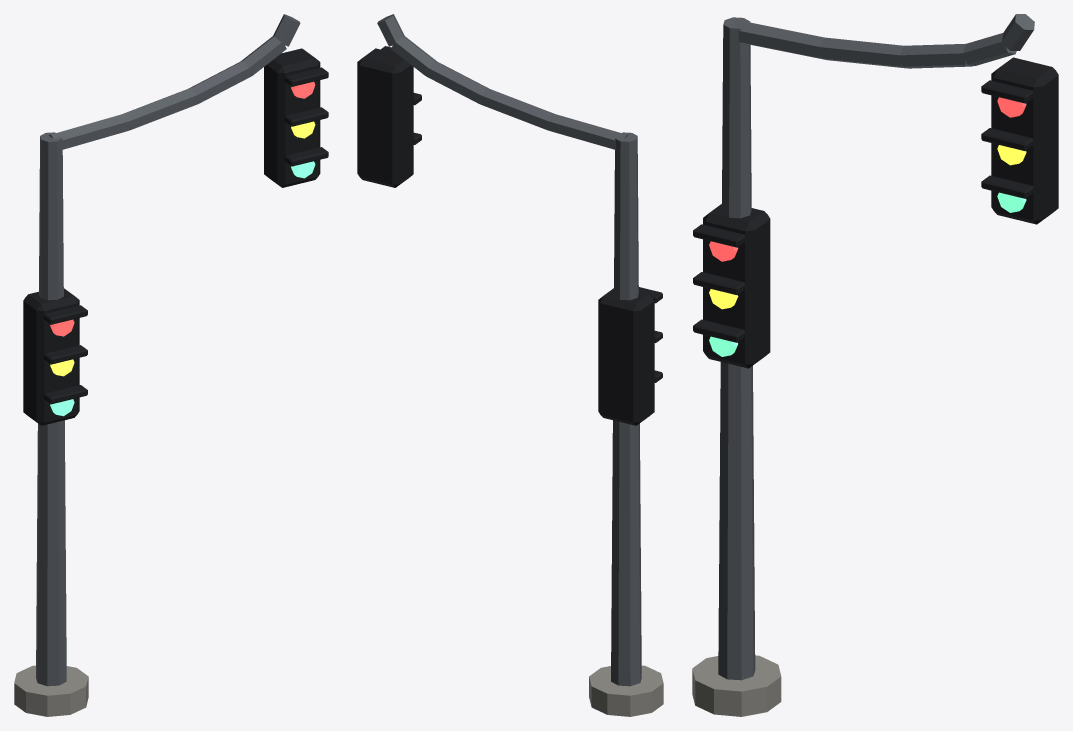
Rendered from VG_TrafficLight.fbx.
The picture shows the model from 3 angles, left to right: view 1: azimuth 30°, elevation 25°; view 2: azimuth 150°, elevation 25°; view 3: azimuth 330°, elevation 25°; orthographic projection. The views are drawn at different scales.
Parts seen in each view (by area): view 1: VG_TrafficLight_Mesh; view 2: VG_TrafficLight_Mesh; view 3: VG_TrafficLight_Mesh.
Boxes of the visible parts, x1,y1,x2,y2 form: VG_TrafficLight_Mesh: [14, 14, 328, 716]; VG_TrafficLight_Mesh: [357, 14, 663, 716]; VG_TrafficLight_Mesh: [692, 14, 1058, 716].
Bounding box in the file's own units: 2.32 × 4.74 × 0.52.
